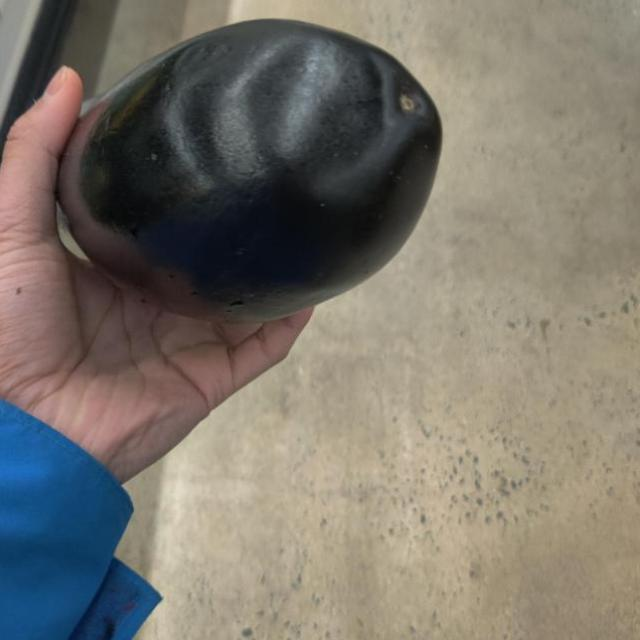Eggplant: (6, 17, 444, 311)
